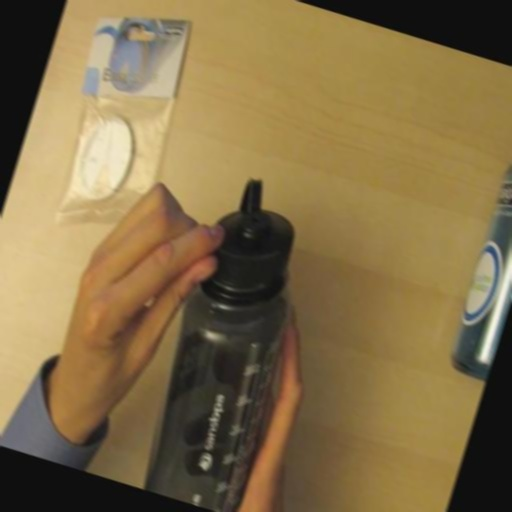bottle: (130, 168, 332, 512)
